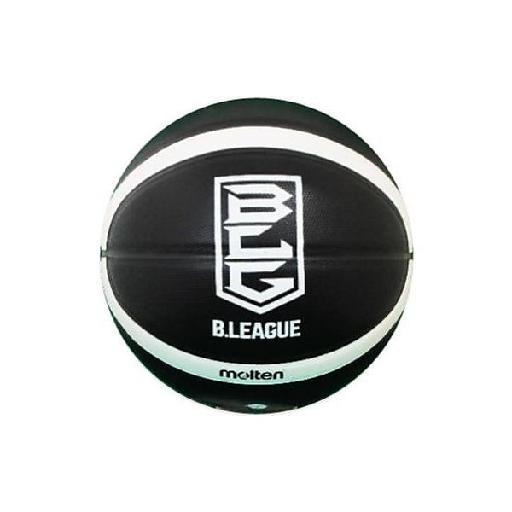ball: (100, 99, 416, 415)
